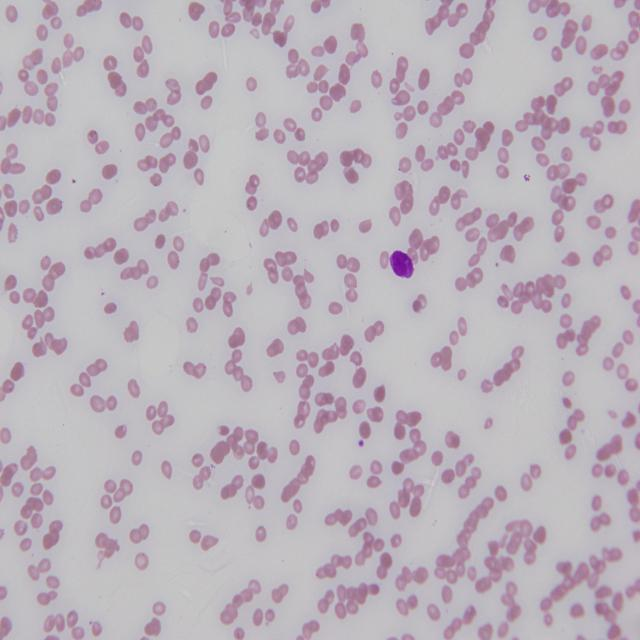cell: (390, 250, 414, 277)
